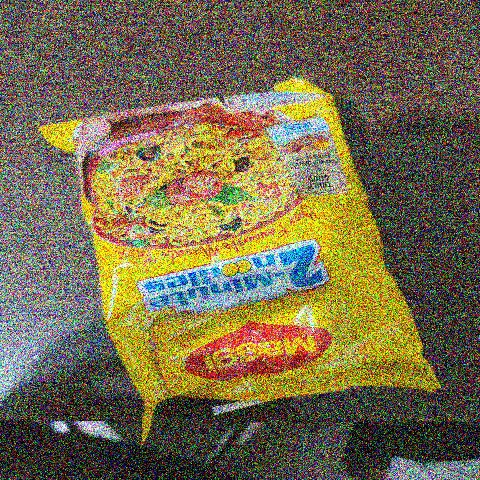maggi: (31, 70, 441, 434)
